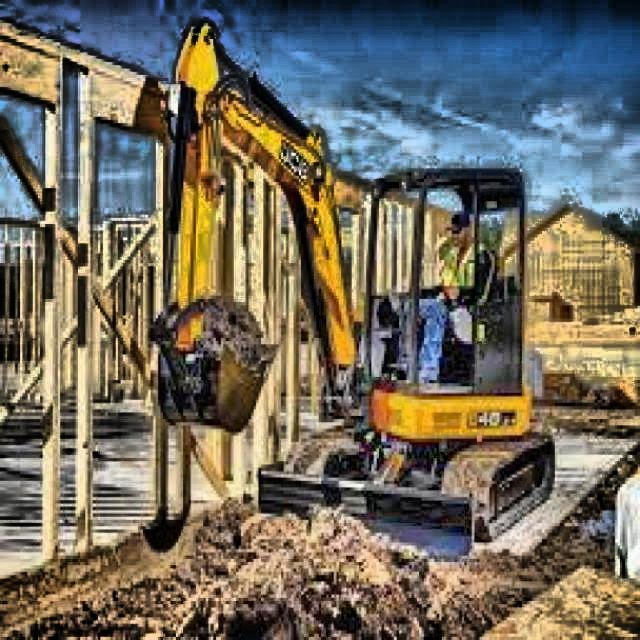bull_dozer/loader/grader: (148, 18, 558, 560)
person: (401, 208, 483, 392)
